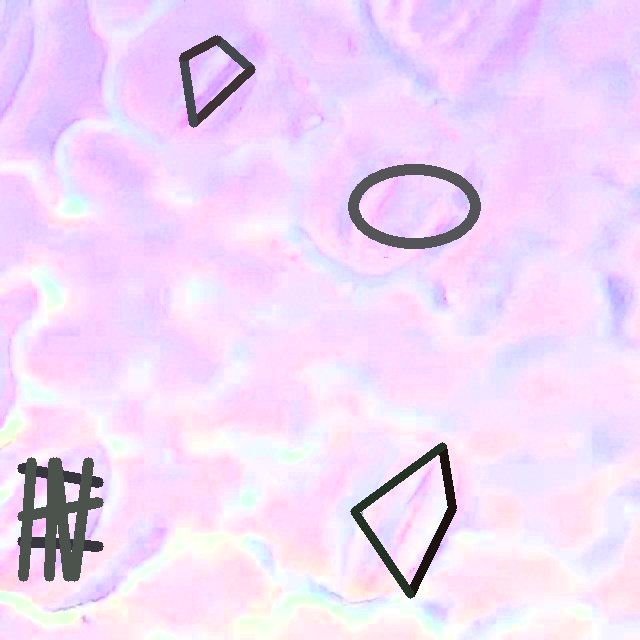close: (351, 442, 455, 597), (347, 164, 481, 248)
open: (18, 458, 102, 580), (179, 35, 255, 127)
